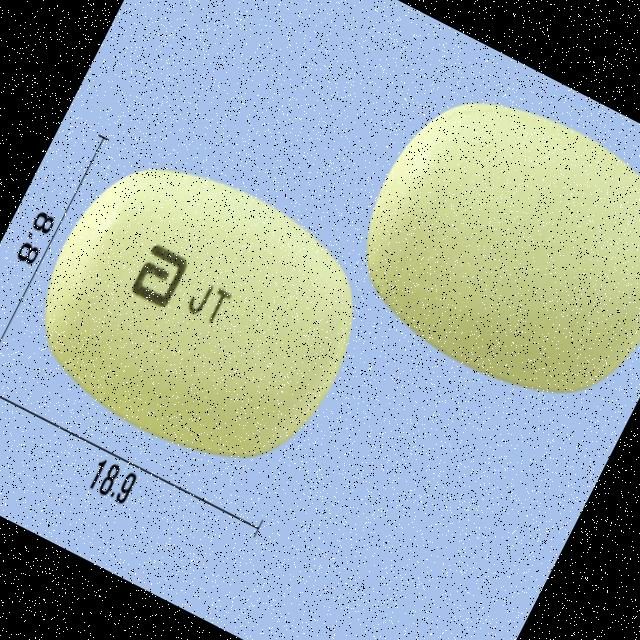Klaricid Film Coated: (3, 128, 395, 502), (324, 60, 640, 433)
